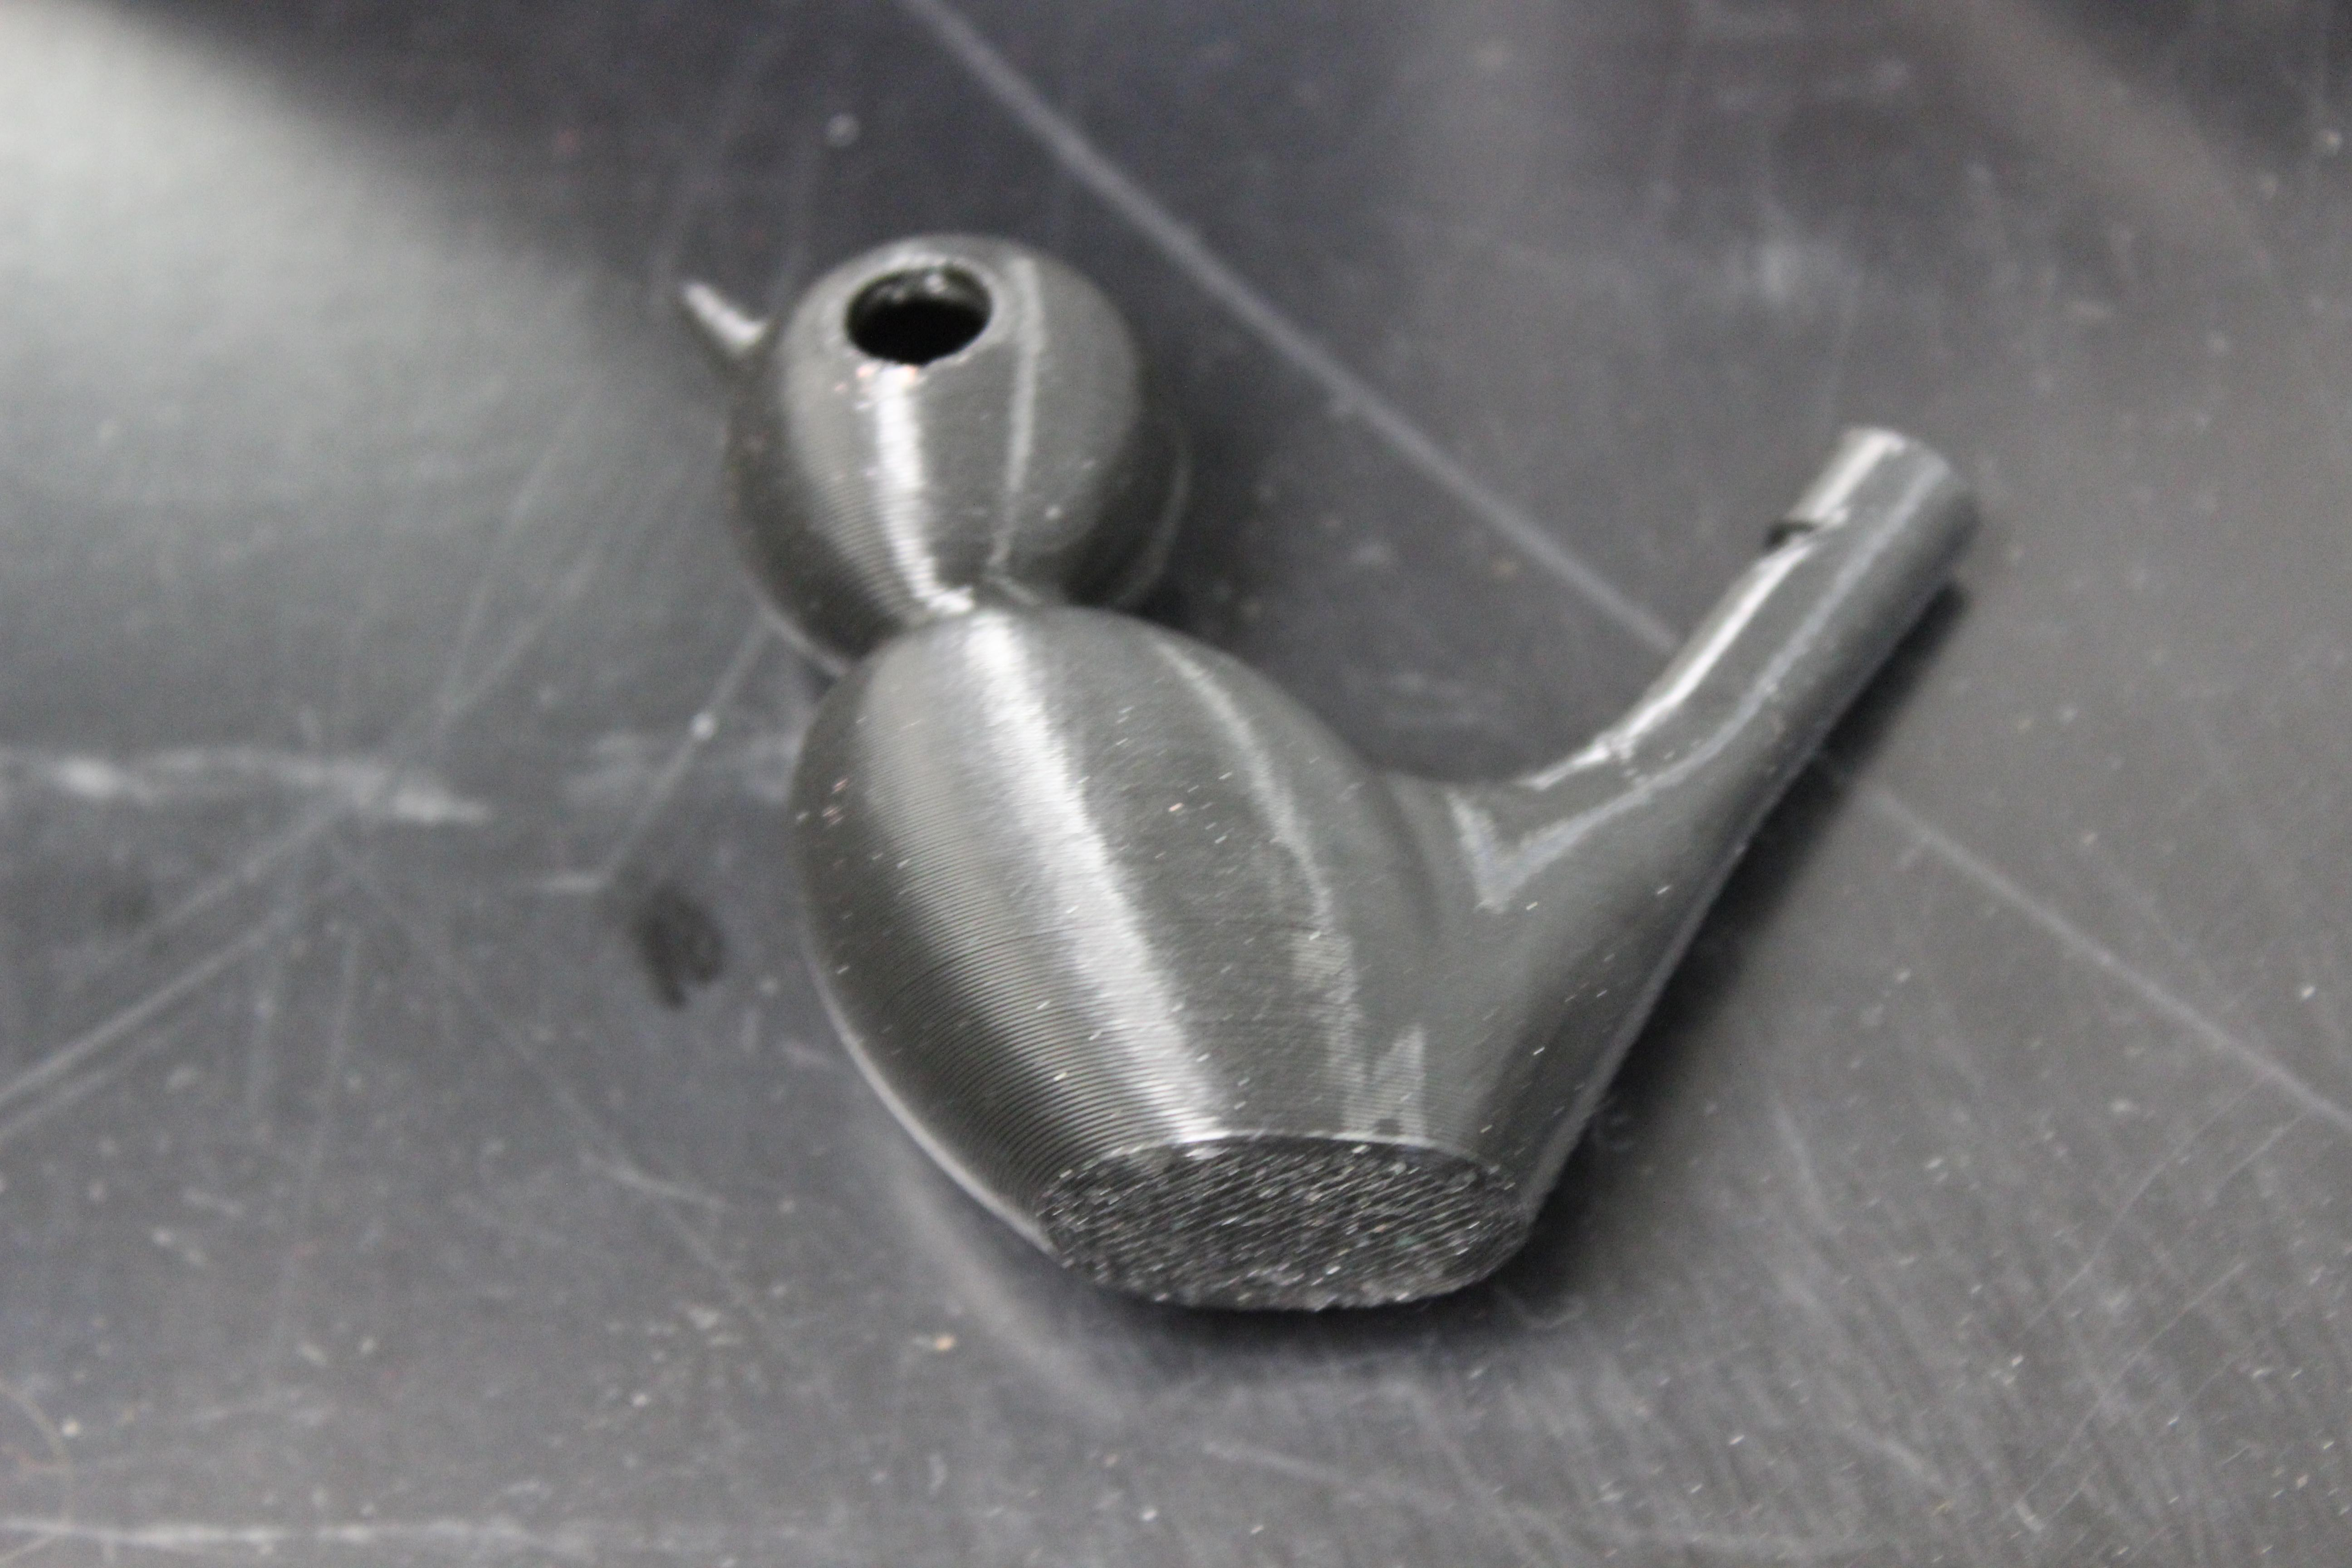birdCall: (583, 175, 2082, 1419)
